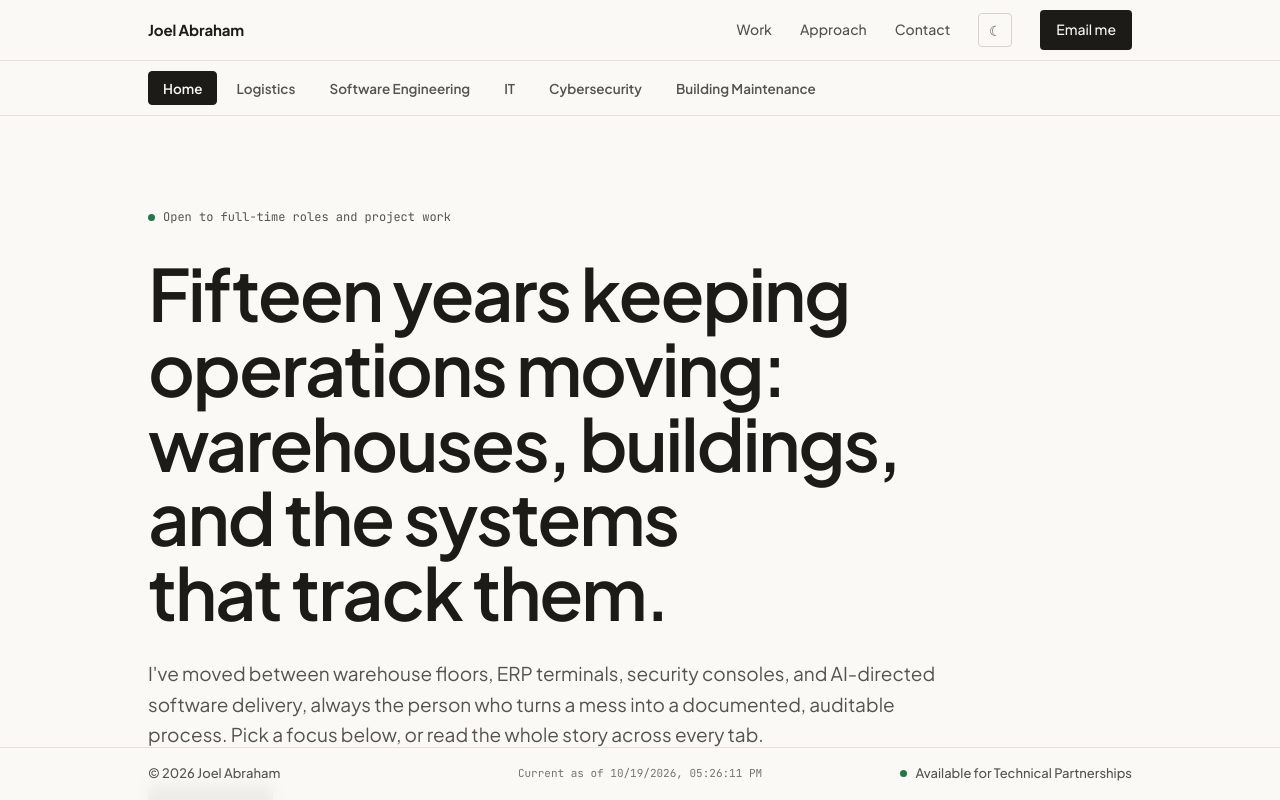
Scenario: App › switches to the Software Engineering tab and renders every project as a case-study row
Click the button "Software Engineering": click(400, 88) [314,71,485,105]
(page scrolled)
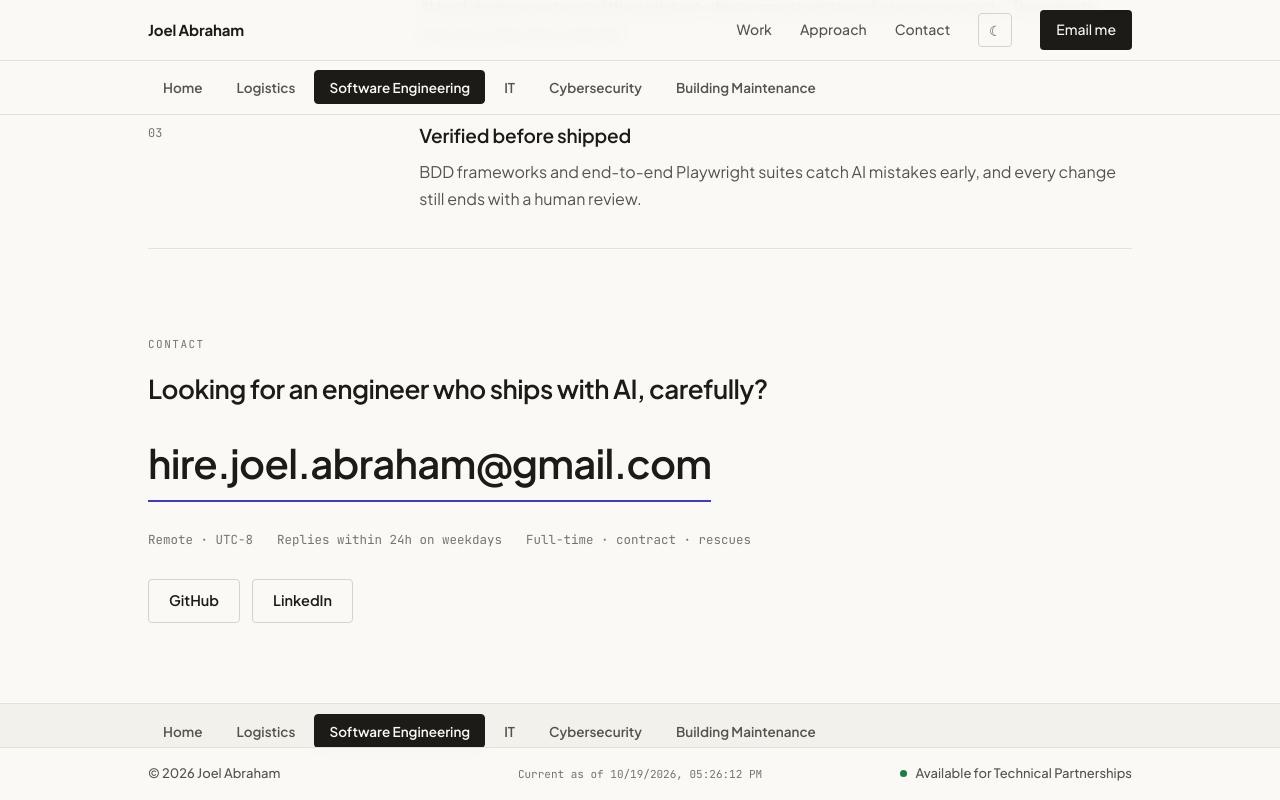
Expected: the link "hire.joel.abraham@gmail.com" is shown, [148,430,711,502]
Expected: the heading "Verified before shipped" is shown, [419,123,631,147]
